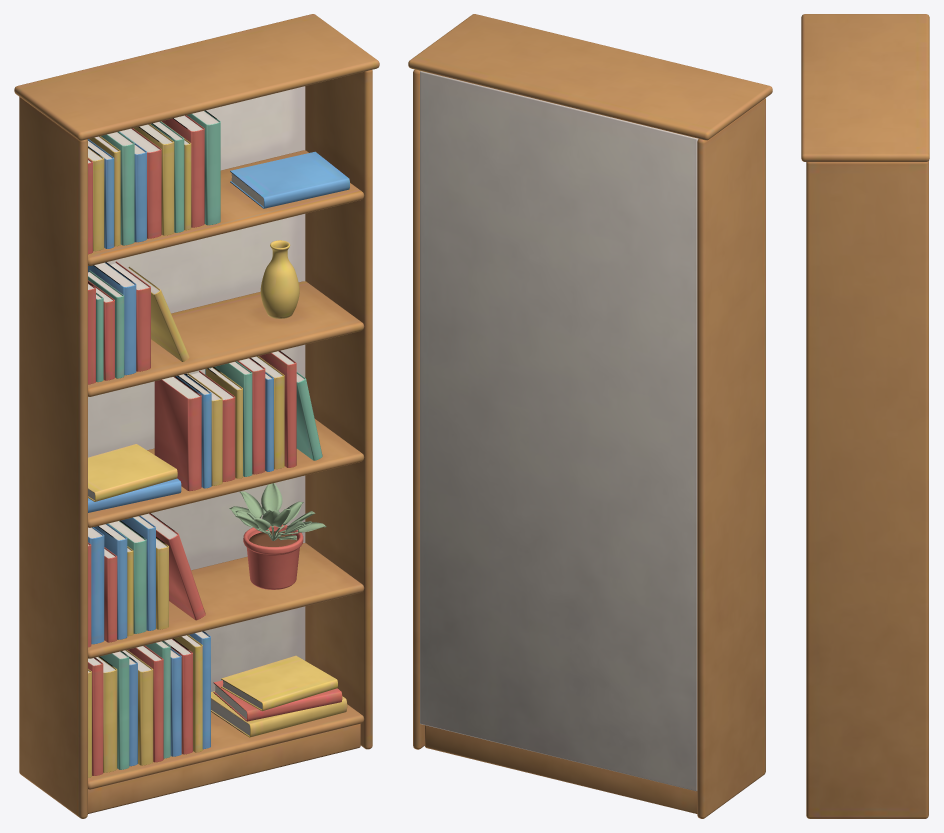
Rendered from bookshelf.glb.
The picture shows the model from 3 angles, left to right: view 1: azimuth 30°, elevation 25°; view 2: azimuth 150°, elevation 25°; view 3: azimuth 270°, elevation 25°; orthographic projection. The views are drawn at different scales.
Visible parts, largest first — view 1: bookshelf_body, bookshelf_plant; view 2: bookshelf_body; view 3: bookshelf_body.
Part boxes in pixels (x1,y1,x2,y2): bookshelf_body: (14,14,379,818); bookshelf_plant: (229,483,326,589); bookshelf_body: (408,14,772,818); bookshelf_body: (801,14,929,818).
Bounding box in the file's own units: 0.824 × 1.8 × 0.314.
Materials: 2 (2 with a texture image).
